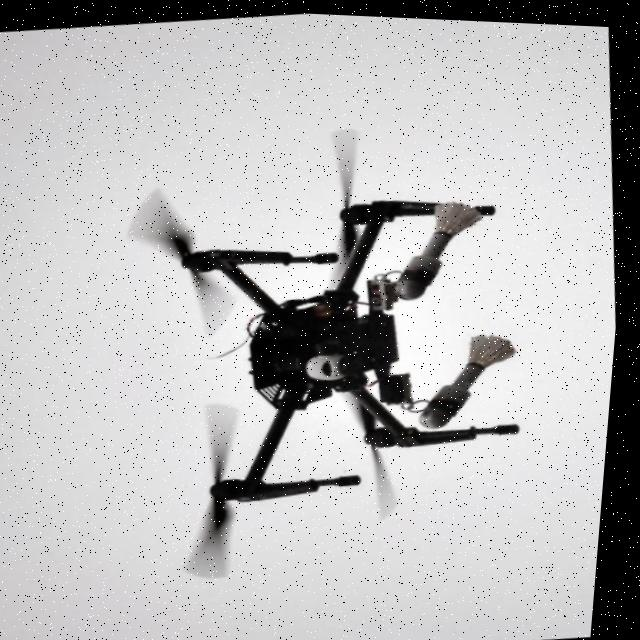drones: (48, 114, 572, 610)
